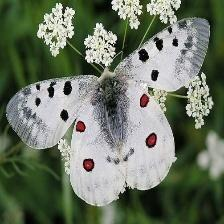butterfly: (5, 18, 211, 207)
